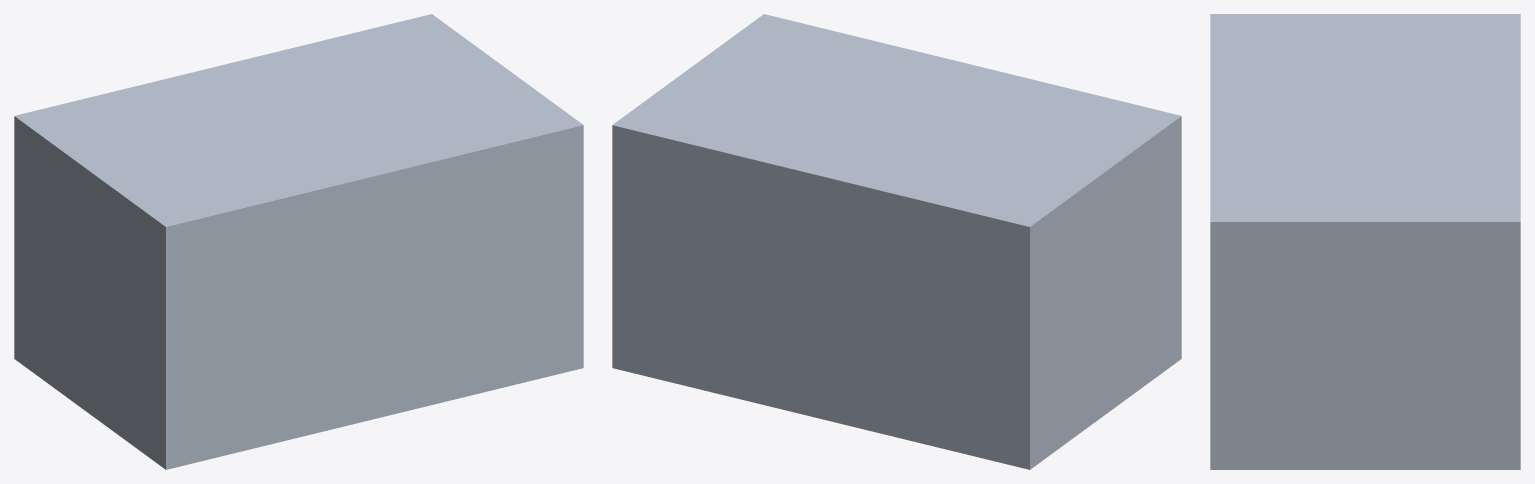
The model's file is blender_3d_rectangular_prism.glb.
3 renders of one model, left to right at view 1: azimuth 30°, elevation 25°; view 2: azimuth 150°, elevation 25°; view 3: azimuth 270°, elevation 25°, orthographic. The views are drawn at different scales.
Parts seen in each view (by area): view 1: Cube; view 2: Cube; view 3: Cube.
Boxes of the visible parts, x1,y1,x2,y2 form: Cube: (14, 14, 583, 469); Cube: (612, 14, 1181, 469); Cube: (1210, 14, 1520, 469).
Bounding box in the file's own units: 2.7 × 1.5 × 1.7.
